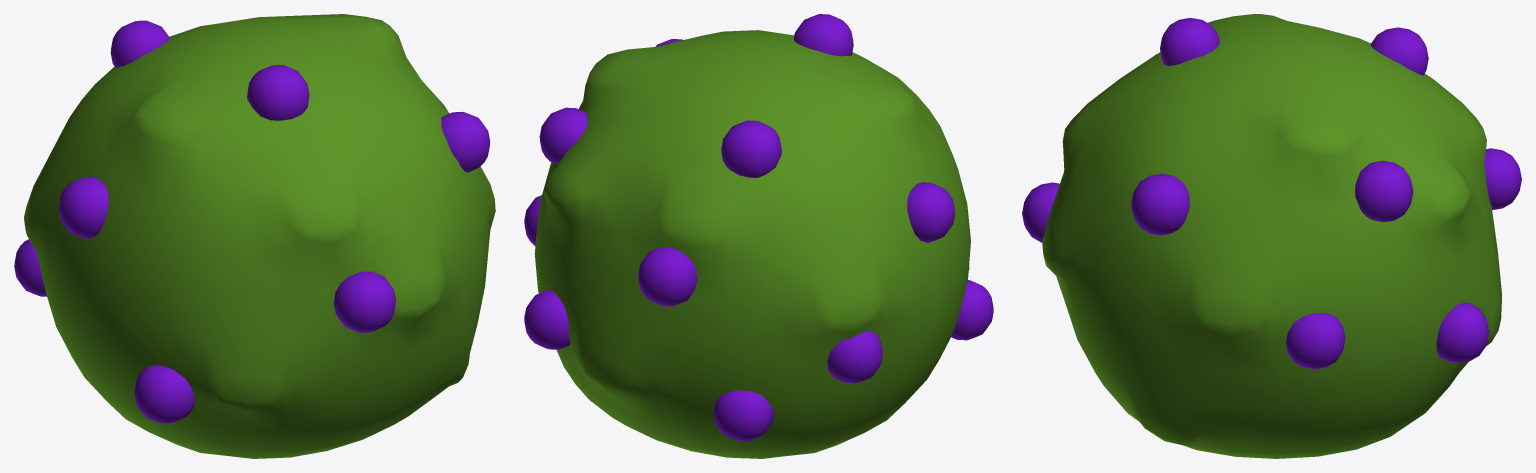
Rendered from prop9.fbx.
3 renders of one model, left to right at view 1: azimuth 30°, elevation 25°; view 2: azimuth 150°, elevation 25°; view 3: azimuth 270°, elevation 25°, orthographic. The views are drawn at different scales.
Visible parts, largest first — view 1: Cube.011; view 2: Cube.011; view 3: Cube.011.
Part boxes in pixels (left/top/right/bottom): Cube.011: left=14, top=14, right=495, bottom=458; Cube.011: left=524, top=14, right=993, bottom=458; Cube.011: left=1022, top=14, right=1521, bottom=458.
Bounding box in the file's own units: 1.67 × 1.77 × 1.49.
